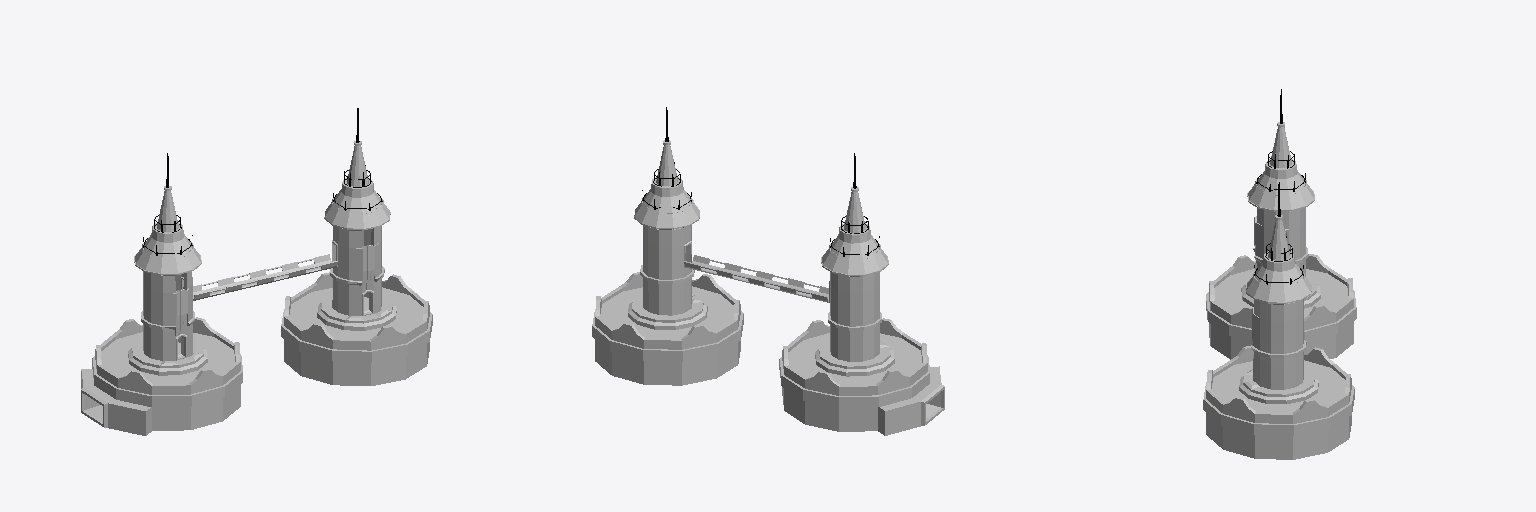
File: Bridges.obj
3 views of the same model, side by side, from view 1: azimuth 30°, elevation 25°; view 2: azimuth 150°, elevation 25°; view 3: azimuth 270°, elevation 25° (orthographic).
Parts seen in each view (by area): view 1: Mesh (5), Mesh, Mesh (2); view 2: Mesh (5), Mesh, Mesh (2); view 3: Mesh (5), Mesh.
Boxes of the visible parts, x1=… form: Mesh (5): x1=81, y1=272, x2=432, y2=435; Mesh: x1=128, y1=108, x2=396, y2=375; Mesh (2): x1=193, y1=254, x2=337, y2=300; Mesh (5): x1=592, y1=272, x2=944, y2=435; Mesh: x1=628, y1=107, x2=894, y2=376; Mesh (2): x1=684, y1=255, x2=828, y2=302; Mesh (5): x1=1203, y1=254, x2=1356, y2=459; Mesh: x1=1239, y1=89, x2=1320, y2=403.
Bounding box in the file's own units: 20.66 × 14.76 × 8.25.